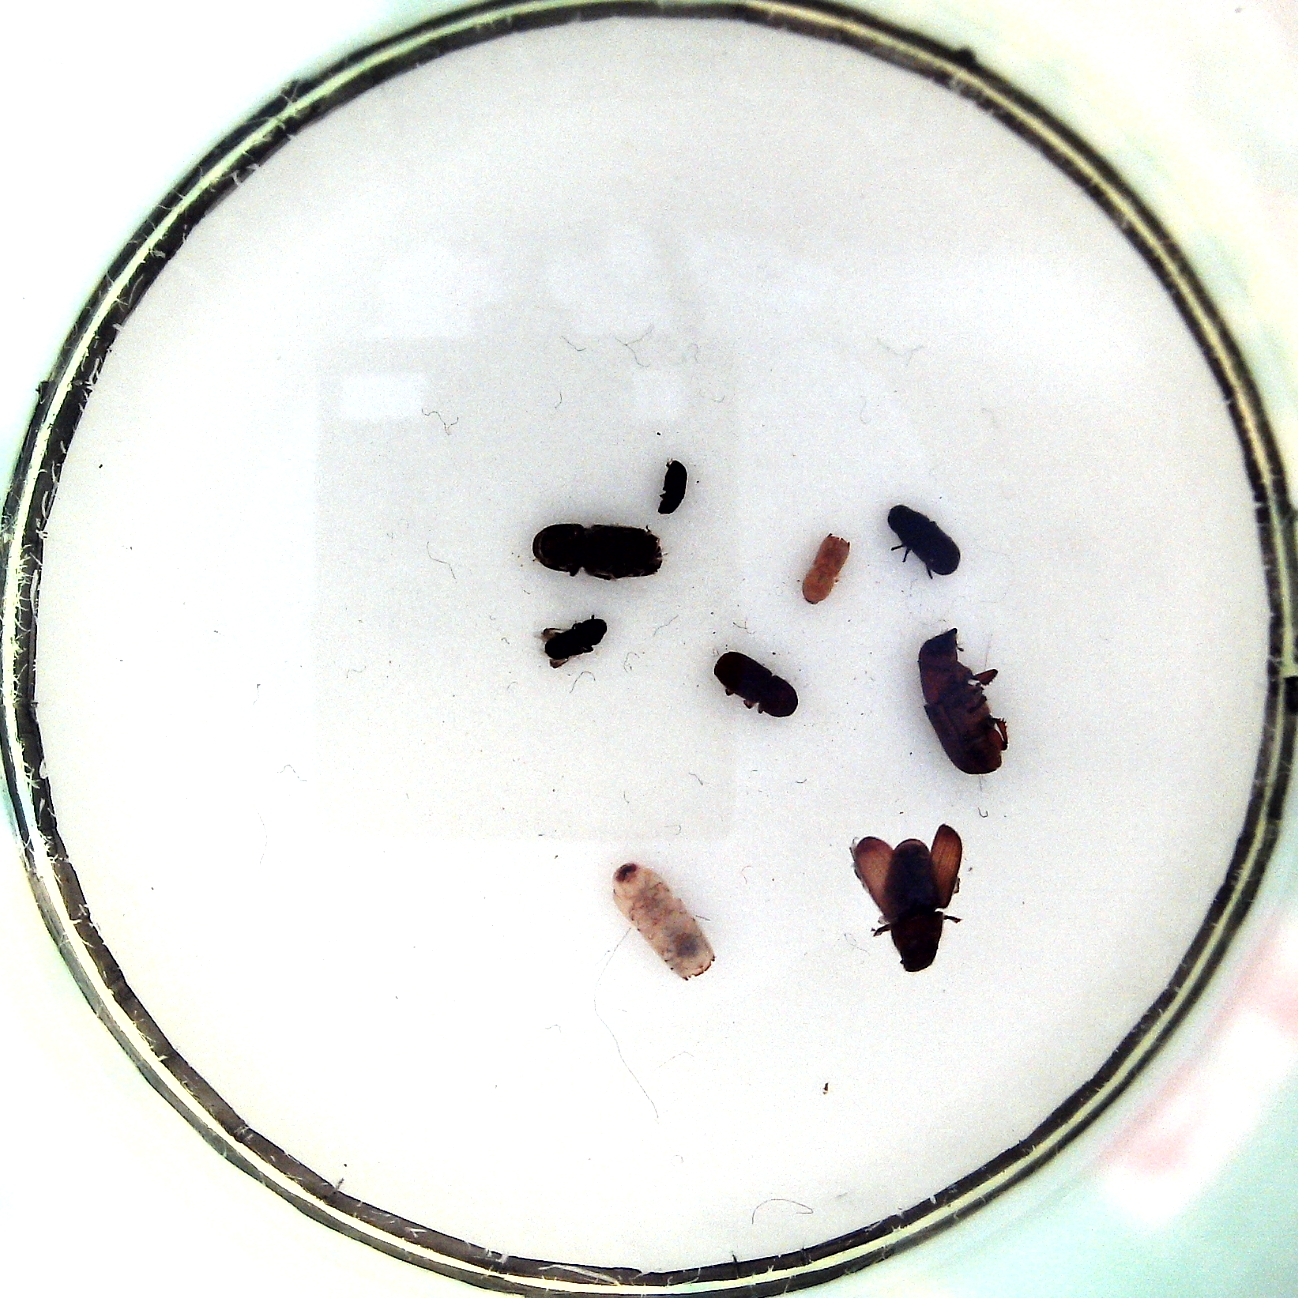Boerner: (606, 853, 724, 985)
Leconte: (844, 821, 970, 977), (916, 623, 1015, 782), (529, 515, 670, 584)
Linnaeus: (708, 645, 806, 725)
acuminatus: (796, 528, 853, 609)
armandi: (882, 497, 968, 582)
coleoptera: (531, 612, 615, 672), (653, 454, 698, 518)
